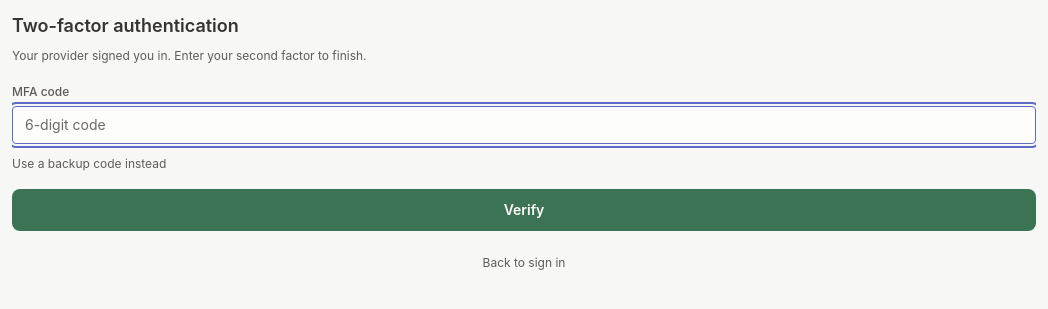
LoginPage OAuth MFA challenge (#82) › shows a rejected code without naming which kind it was
Type "000000" into the field labelled "MFA code" at (524, 125), box [12, 106, 1036, 144]
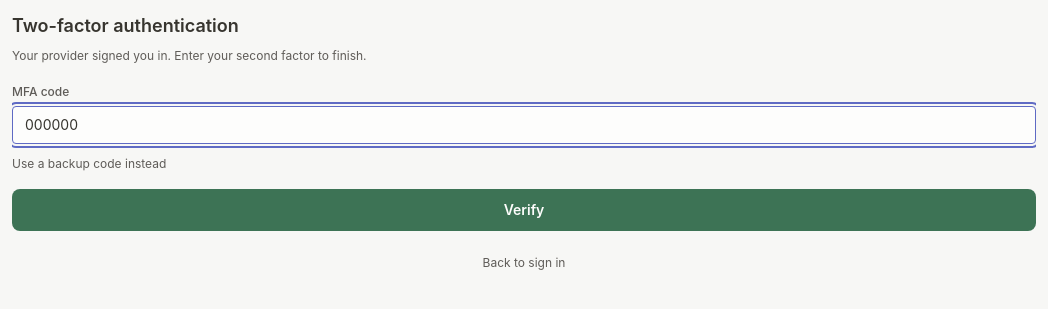
Click the button "Verify" at (524, 210), box [12, 189, 1036, 231]
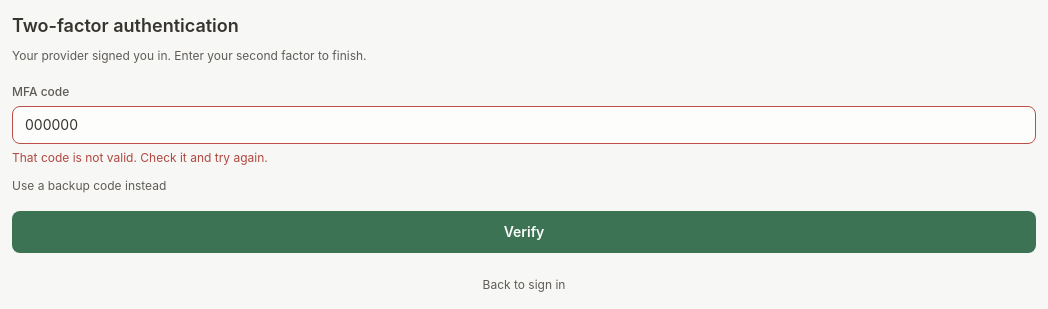
Check: the message shows "not valid", box [12, 150, 268, 165]
